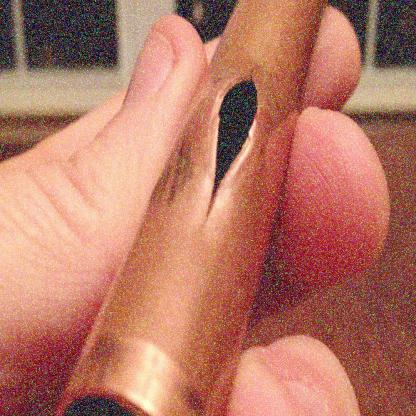burst: (194, 71, 265, 203)
